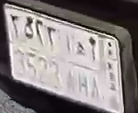3: (47, 25, 62, 89)
5: (24, 20, 36, 81)
A: (64, 33, 75, 95), (89, 45, 101, 100)
H: (75, 41, 89, 96)
